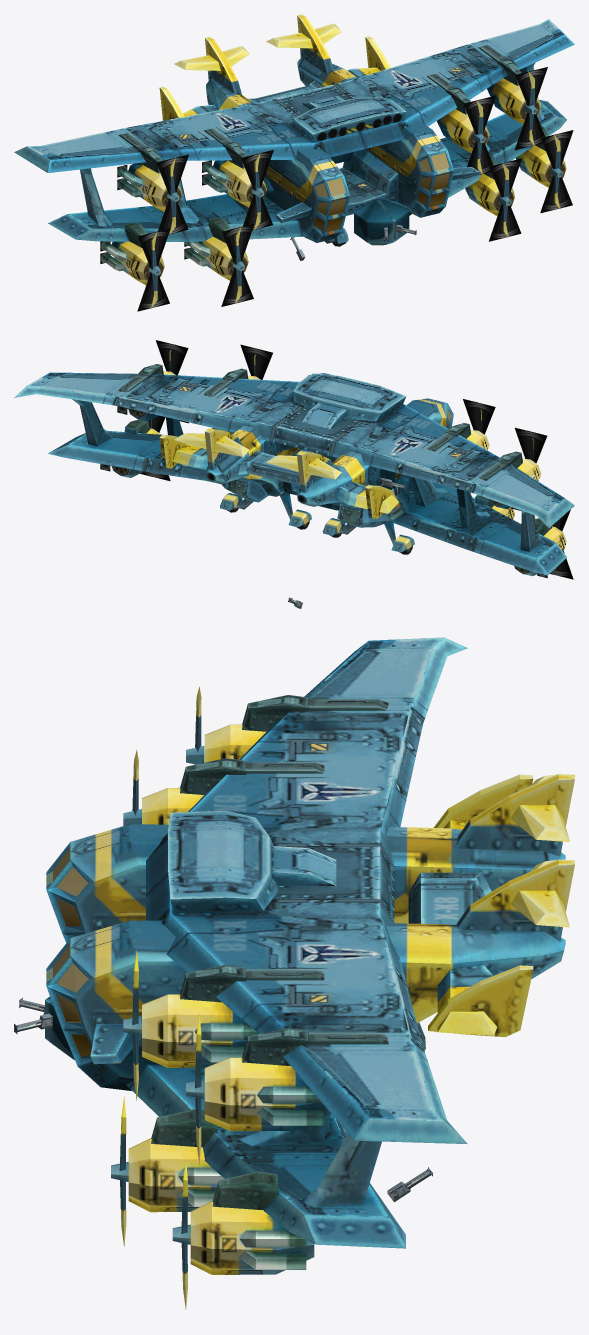
File: VXSFRTH.obj
3 views of the same model, one above another, from view 1: azimuth 30°, elevation 25°; view 2: azimuth 150°, elevation 25°; view 3: azimuth 270°, elevation 25° (orthographic). The views are drawn at different scales.
Parts seen in each view (by area): view 1: Node 0, Node 38, Node 29, Node 11, Node 23, Node 17, Node 14, Node 26, Node 32, Node 20, Node 34; view 2: Node 0, Node 14, Node 32, Node 20, Node 26, Node 29; view 3: Node 0.
Boxes of the visible parts, bbox=[...] form: Node 0: bbox=[14, 14, 574, 285]; Node 38: bbox=[354, 200, 395, 245]; Node 29: bbox=[137, 228, 170, 311]; Node 11: bbox=[540, 130, 573, 212]; Node 23: bbox=[221, 224, 254, 306]; Node 17: bbox=[489, 158, 521, 241]; Node 14: bbox=[514, 67, 547, 150]; Node 26: bbox=[241, 150, 273, 229]; Node 32: bbox=[156, 154, 188, 234]; Node 20: bbox=[463, 95, 495, 178]; Node 34: bbox=[368, 198, 409, 240]; Node 0: bbox=[14, 364, 574, 578]; Node 14: bbox=[156, 340, 188, 423]; Node 32: bbox=[515, 427, 547, 463]; Node 20: bbox=[240, 344, 272, 379]; Node 26: bbox=[463, 399, 495, 434]; Node 29: bbox=[550, 509, 573, 579]; Node 0: bbox=[46, 637, 574, 1274].
Bounding box in the file's own units: 35.75 × 12.78 × 17.09.
67 materials, 67 textured.
